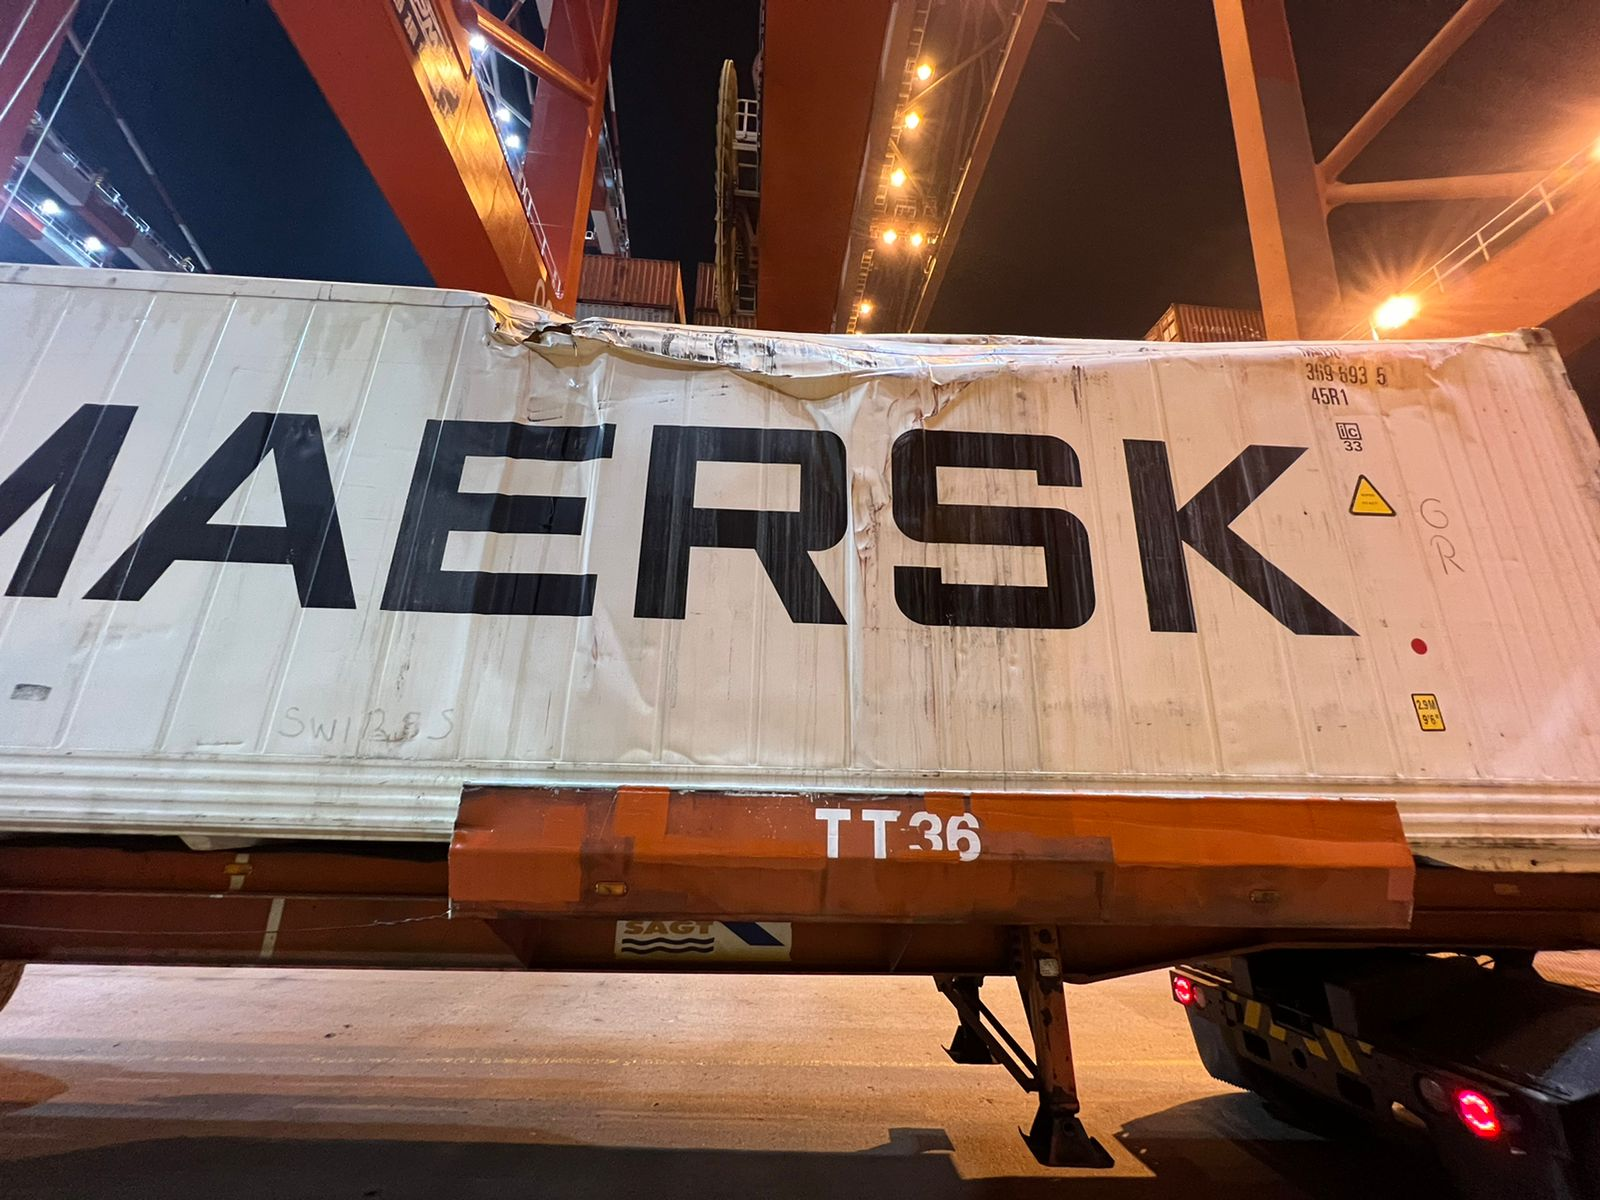bulged: (493, 303, 1340, 432)
